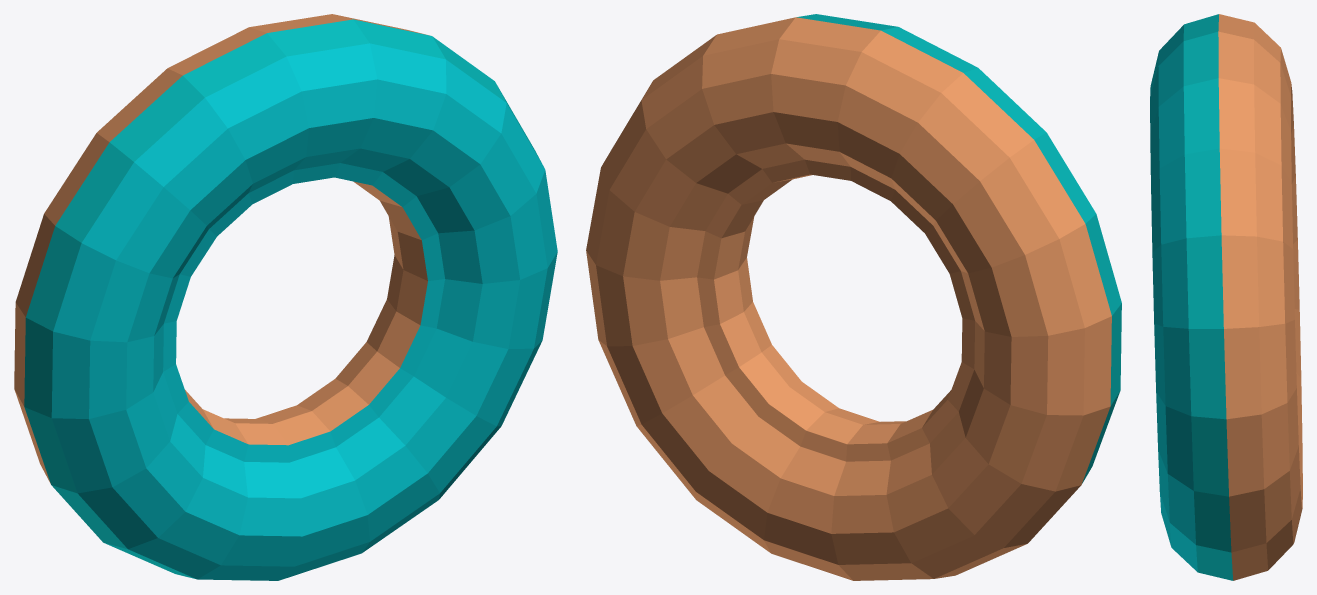
Rendered from donut4.fbx.
3 views of the same model, side by side, from view 1: azimuth 30°, elevation 25°; view 2: azimuth 150°, elevation 25°; view 3: azimuth 270°, elevation 25° (orthographic). The views are drawn at different scales.
Visible parts, largest first — view 1: Torus.001; view 2: Torus.001; view 3: Torus.001.
Boxes of the visible parts, left/top/right/bottom form: Torus.001: left=14, top=14, right=557, bottom=580; Torus.001: left=586, top=14, right=1121, bottom=580; Torus.001: left=1150, top=14, right=1302, bottom=580.
Bounding box in the file's own units: 169 × 169 × 45.59.
